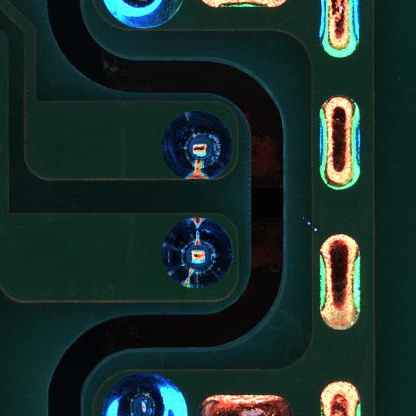spot: (151, 205, 248, 295), (158, 101, 239, 185)
